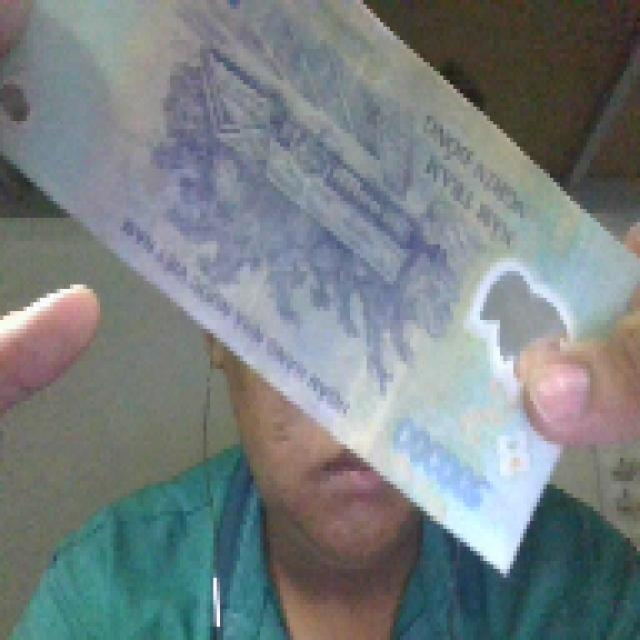500 000 VND: (0, 0, 637, 578)
